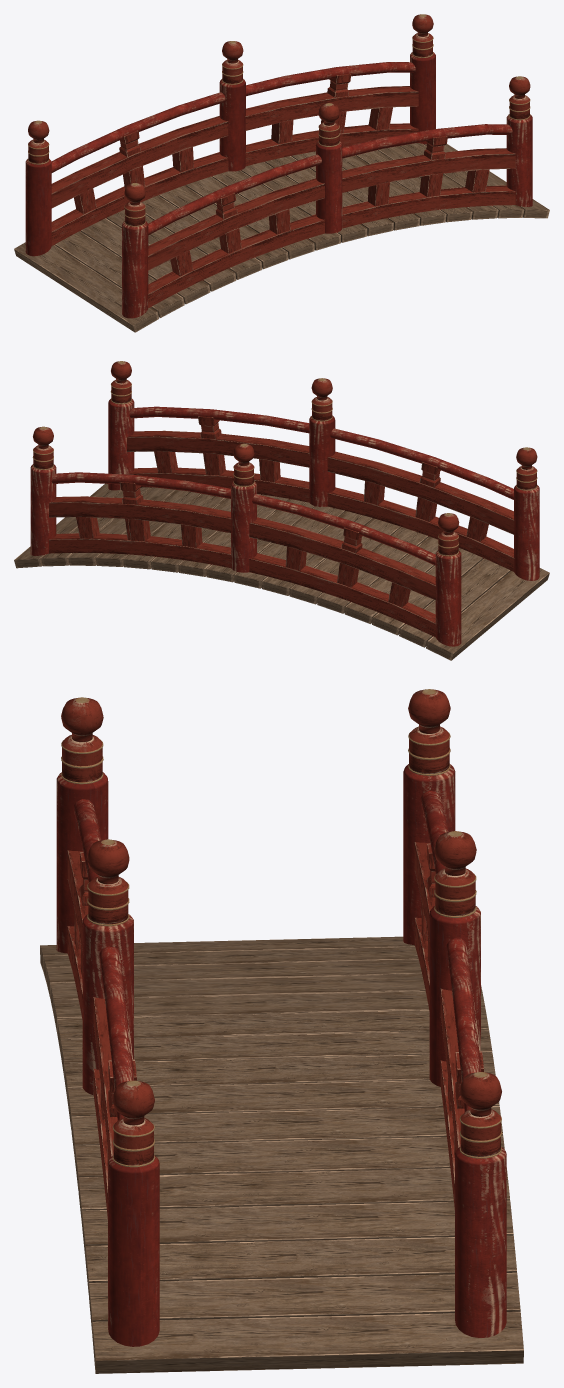
3 views of the same model, one above another, from view 1: azimuth 30°, elevation 25°; view 2: azimuth 150°, elevation 25°; view 3: azimuth 270°, elevation 25° (orthographic). The views are drawn at different scales.
Parts seen in each view (by area): view 1: SM_Bridge; view 2: SM_Bridge; view 3: SM_Bridge.
Part boxes in pixels (bbox=[...]): SM_Bridge: bbox=[14, 14, 549, 332]; SM_Bridge: bbox=[14, 361, 549, 660]; SM_Bridge: bbox=[40, 689, 523, 1373].
Size of the model in its own units: 12.97 by 4.61 by 6.23.
1 material, 1 textured.
